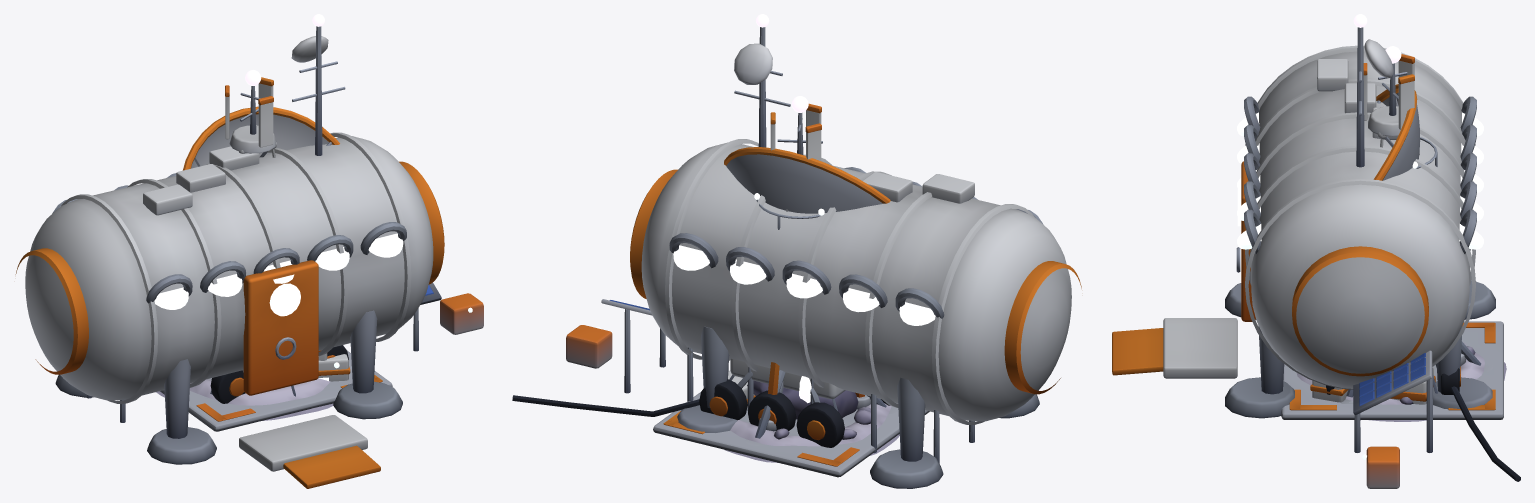
The model's file is props-moon.glb.
3 renders of one model, left to right at view 1: azimuth 30°, elevation 25°; view 2: azimuth 150°, elevation 25°; view 3: azimuth 270°, elevation 25°, orthographic. The views are drawn at different scales.
Parts seen in each view (by area): view 1: prop-moon-habitat, prop-moon-dishhead, prop-moon-pad, prop-moon-tower, prop-moon-solar, prop-moon-crater, prop-moon-rover, prop-moon-dishbase; view 2: prop-moon-habitat, prop-moon-dishhead, prop-moon-rover, prop-moon-pad, prop-moon-solar, prop-moon-tower, prop-moon-crater, prop-moon-boulder; view 3: prop-moon-habitat, prop-moon-pad, prop-moon-solar, prop-moon-tower, prop-moon-dishhead, prop-moon-crater, prop-moon-dishbase, prop-moon-crate, prop-moon-rover.
Part boxes in pixels (x1,y1,x2,y2): prop-moon-habitat: (15,14,444,488); prop-moon-dishhead: (183,106,339,170); prop-moon-pad: (160,350,392,431); prop-moon-tower: (207,70,327,380); prop-moon-solar: (87,282,483,422); prop-moon-crater: (156,378,333,420); prop-moon-rover: (210,345,348,403); prop-moon-dishbase: (205,354,350,401); prop-moon-habitat: (512,14,1081,488); prop-moon-dishhead: (724,147,890,213); prop-moon-rover: (699,358,889,447); prop-moon-pad: (653,392,929,477); prop-moon-solar: (566,299,974,463); prop-moon-tower: (739,96,870,435); prop-moon-crater: (724,403,899,462); prop-moon-boulder: (747,380,858,419); prop-moon-habitat: (1112,14,1520,481); prop-moon-pad: (1281,321,1503,419); prop-moon-solar: (1353,350,1432,488); prop-moon-tower: (1363,46,1465,381); prop-moon-dishhead: (1373,84,1420,180); prop-moon-crater: (1297,342,1506,421); prop-moon-dishbase: (1310,341,1493,403); prop-moon-crate: (1390,366,1435,404); prop-moon-rover: (1326,364,1460,394).
Bounding box in the file's own units: 5.96 × 4.62 × 4.4.
